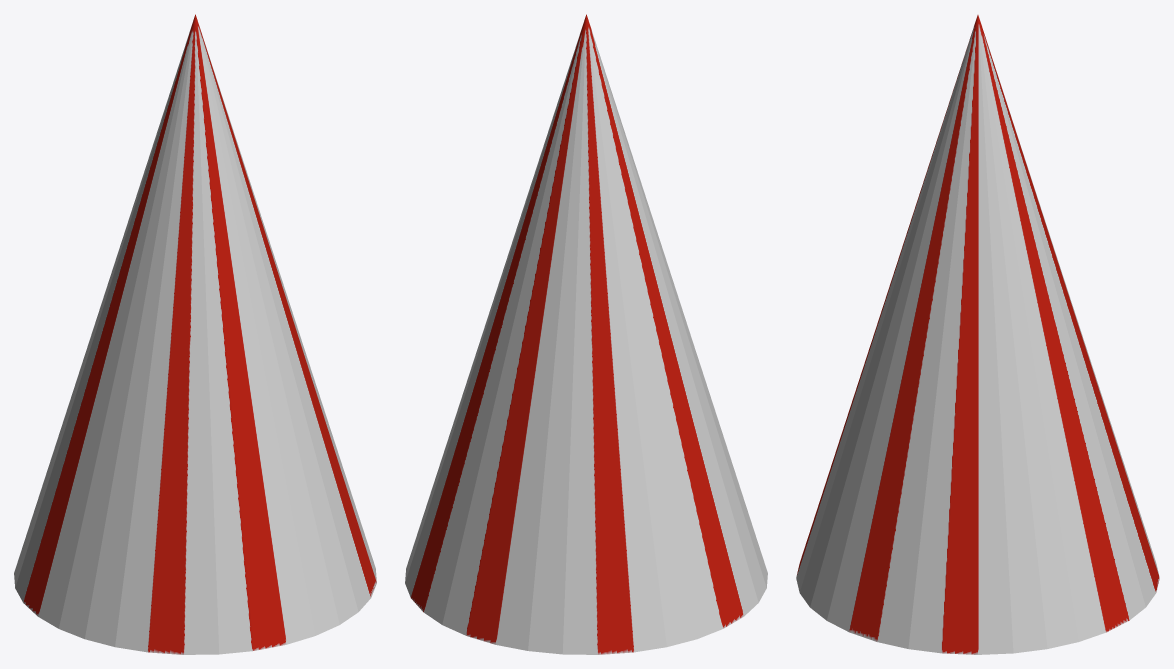
File: BossParts.obj
3 views of the same model, side by side, from view 1: azimuth 30°, elevation 25°; view 2: azimuth 150°, elevation 25°; view 3: azimuth 270°, elevation 25° (orthographic).
Visible parts, largest first — view 1: 円錐; view 2: 円錐; view 3: 円錐.
Boxes of the visible parts, x1=… form: 円錐: x1=14, y1=14, x2=376, y2=654; 円錐: x1=405, y1=14, x2=767, y2=654; 円錐: x1=796, y1=15, x2=1159, y2=654.
Size of the model in its own units: 1.22 by 2.09 by 1.22.
